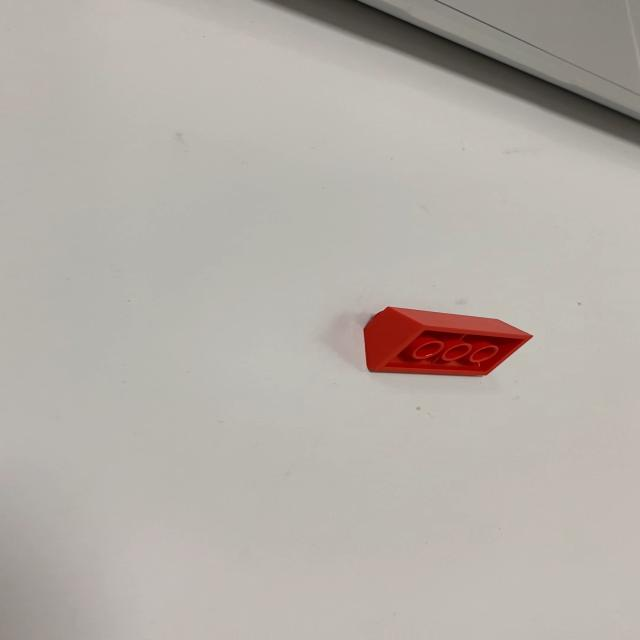P4x2x1: (361, 305, 533, 377)
